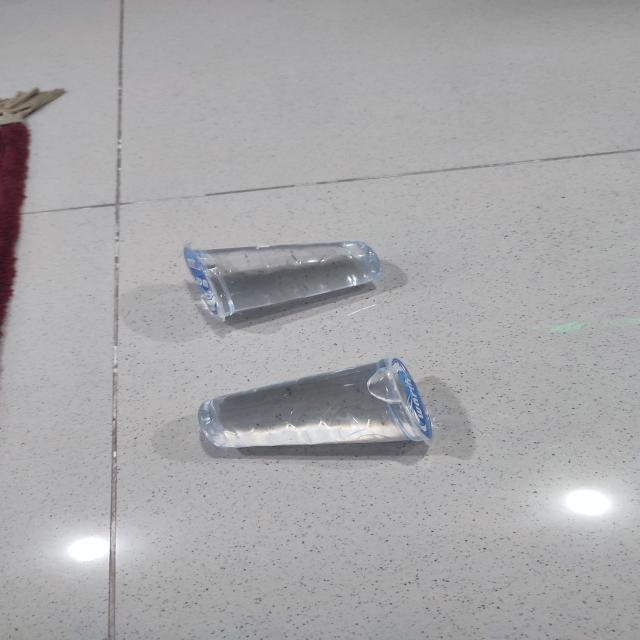air gelas: (188, 350, 438, 455), (183, 235, 383, 325)
